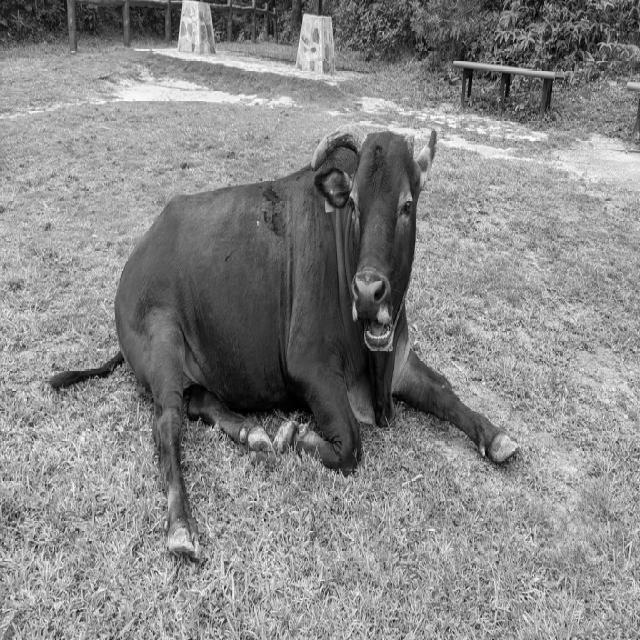cow: (50, 126, 518, 558)
